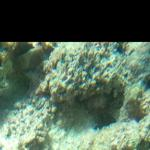dead: (1, 43, 147, 147)
